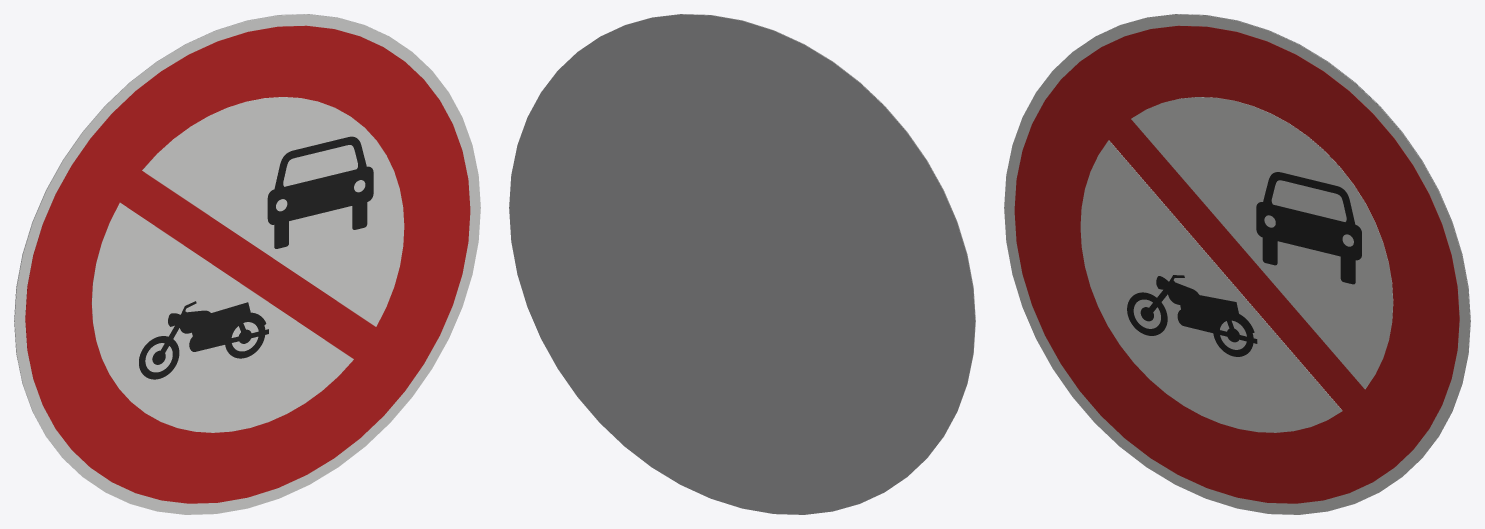
The picture shows the model from 3 angles, left to right: view 1: azimuth 30°, elevation 25°; view 2: azimuth 150°, elevation 25°; view 3: azimuth 330°, elevation 25°; orthographic projection.
Parts seen in each view (by area): view 1: B7a_p01, B7a_p03, B7a_p02, B7a_p00, B7a_p04, B7a_p05, B7a_dos; view 2: B7a_dos, B7a_p00; view 3: B7a_p01, B7a_p03, B7a_p02, B7a_p00, B7a_p04, B7a_p05, B7a_dos.
Boxes of the visible parts, <box> form: B7a_p01: <box>25,25,470,503</box>; B7a_p03: <box>91,202,353,432</box>; B7a_p02: <box>142,97,404,326</box>; B7a_p00: <box>14,14,480,514</box>; B7a_p04: <box>267,136,373,248</box>; B7a_p05: <box>139,301,268,379</box>; B7a_dos: <box>14,14,385,473</box>; B7a_dos: <box>509,14,975,514</box>; B7a_p00: <box>604,14,975,473</box>; B7a_p01: <box>1014,25,1459,503</box>; B7a_p03: <box>1080,140,1342,432</box>; B7a_p02: <box>1131,97,1393,389</box>; B7a_p00: <box>1004,14,1470,514</box>; B7a_p04: <box>1256,172,1361,284</box>; B7a_p05: <box>1127,275,1257,356</box>; B7a_dos: <box>1099,14,1470,473</box>.
Size of the model in its own units: 0.85 by 0.8498 by 0.0039.
